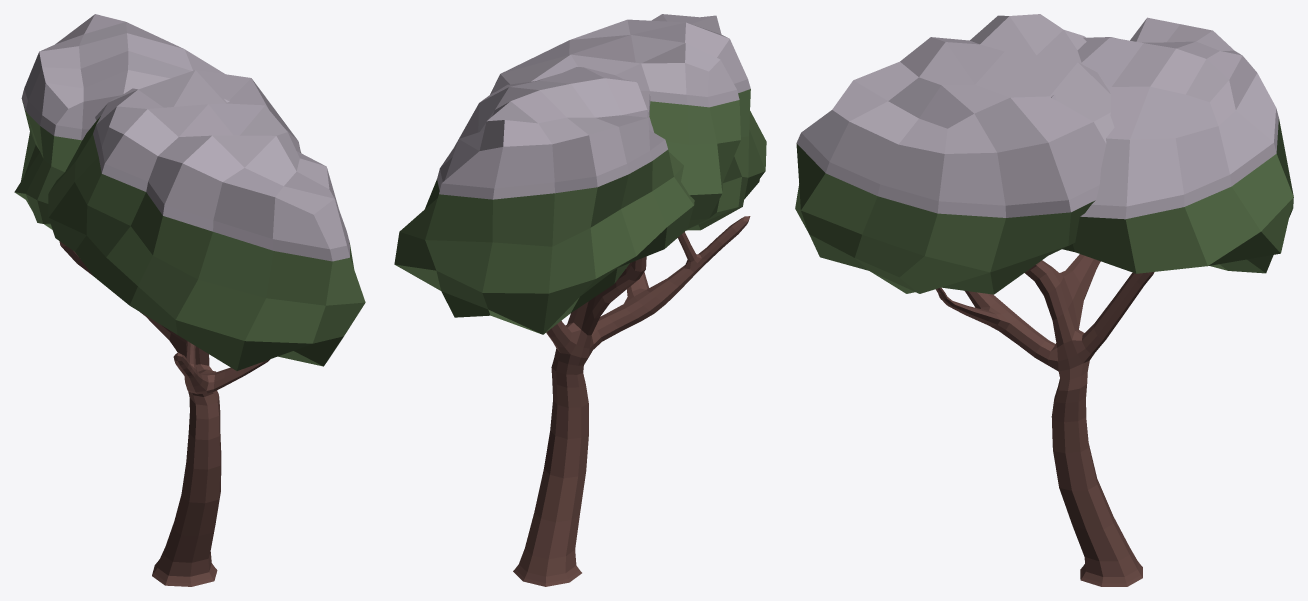
Rendered from CommonTree_Snow_5.gltf.
3 views of the same model, side by side, from view 1: azimuth 30°, elevation 25°; view 2: azimuth 150°, elevation 25°; view 3: azimuth 270°, elevation 25° (orthographic). The views are drawn at different scales.
Visible parts, largest first — view 1: CommonTree_Snow_5; view 2: CommonTree_Snow_5; view 3: CommonTree_Snow_5.
Part boxes in pixels (x1=…): CommonTree_Snow_5: x1=14, y1=14, x2=365, y2=586; CommonTree_Snow_5: x1=394, y1=14, x2=766, y2=586; CommonTree_Snow_5: x1=795, y1=14, x2=1293, y2=586.
Size of the model in its own units: 1.29 by 2.57 by 2.25.
